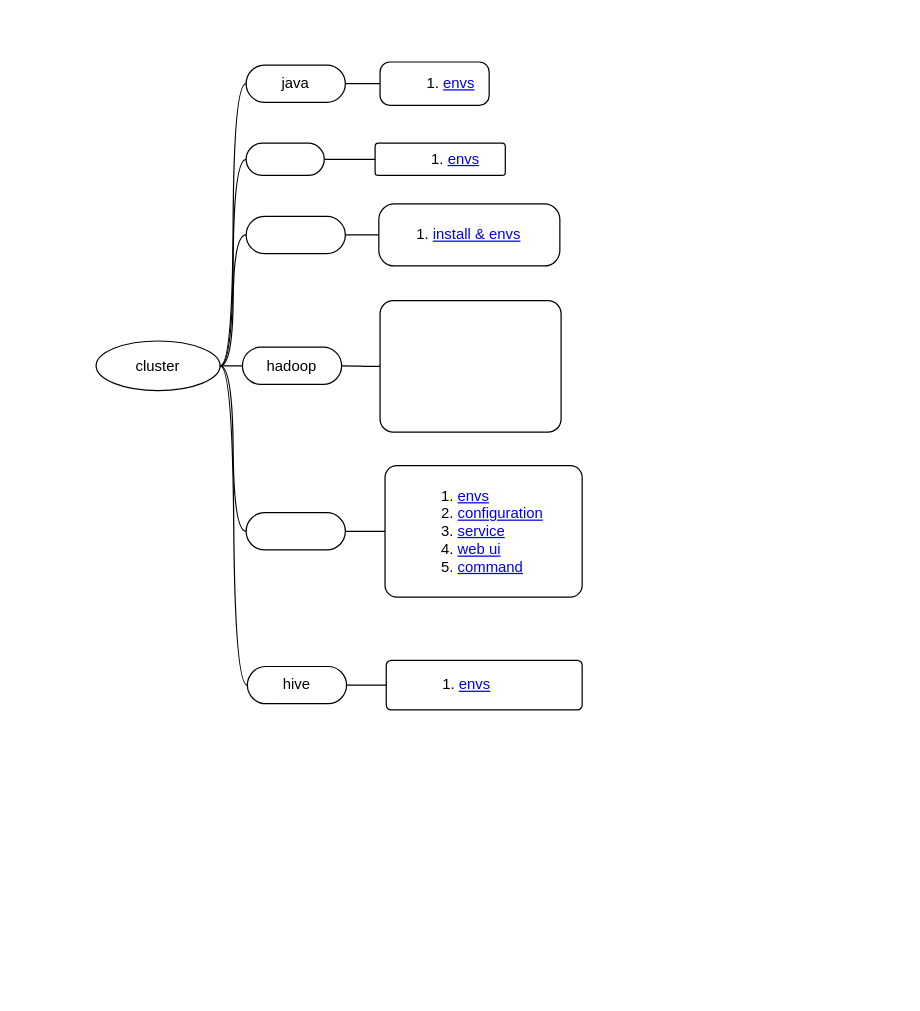
This 920x1011 diagram has some shape labels left out. The shapes that lost their labels are listed below. From the top down, each one's centre as x and y in pixels, then its label:
At (284,158): "scala".
At (295,234): "maven".
At (470,365): "install & envs configuration service web ui command".
At (295,531): "spark".
